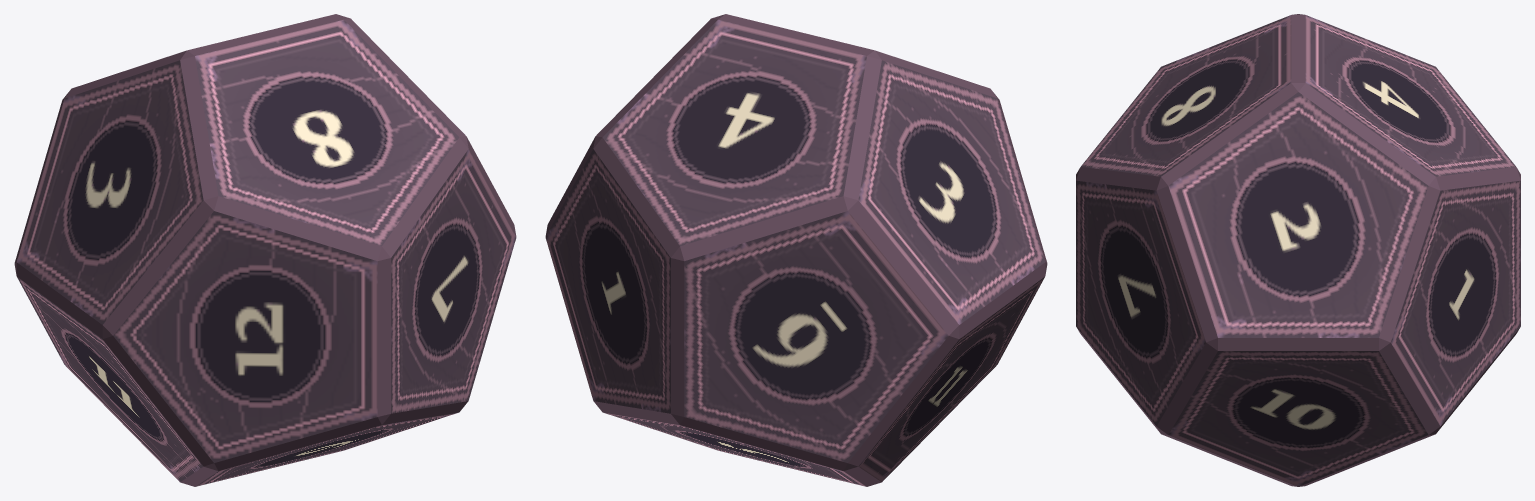
3 views of the same model, side by side, from view 1: azimuth 30°, elevation 25°; view 2: azimuth 150°, elevation 25°; view 3: azimuth 270°, elevation 25° (orthographic). The views are drawn at different scales.
Size of the model in its own units: 165 by 165 by 165.
1 material, 1 textured.
